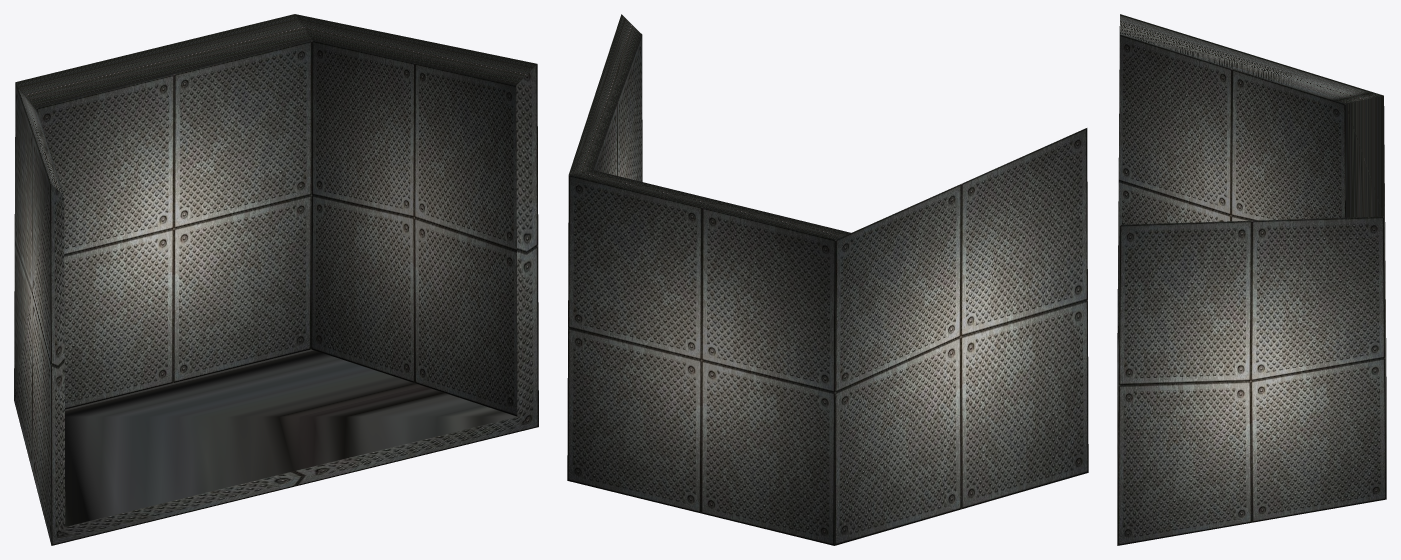
Rendered from backWall.FBX.
The picture shows the model from 3 angles, left to right: view 1: azimuth 30°, elevation 25°; view 2: azimuth 150°, elevation 25°; view 3: azimuth 270°, elevation 25°; orthographic projection. The views are drawn at different scales.
Parts seen in each view (by area): view 1: Object001; view 2: Object001; view 3: Object001.
Part boxes in pixels (box(x1,y1,x2,y2)): Object001: box(14, 14, 538, 545); Object001: box(567, 14, 1088, 545); Object001: box(1117, 14, 1386, 545).
Size of the model in its own units: 159 by 85.75 by 113.
Materials: 1 (1 with a texture image).
